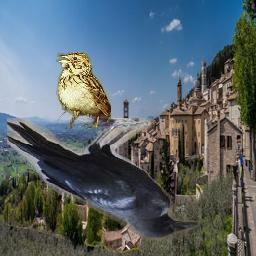Crow: (7, 118, 201, 240)
Sparrow: (57, 53, 112, 130)
